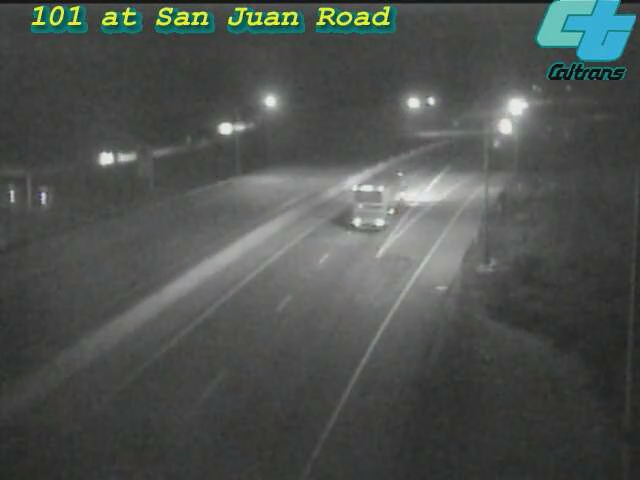vehicle: (343, 160, 423, 240), (479, 102, 529, 152), (488, 83, 538, 133)
